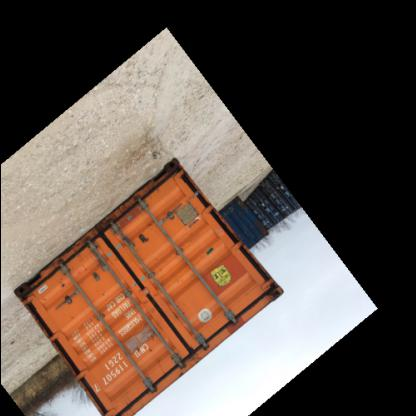Damage: (122, 324, 160, 362), (84, 253, 106, 285), (197, 243, 219, 265), (259, 281, 279, 301), (132, 230, 148, 252), (59, 274, 67, 296)
